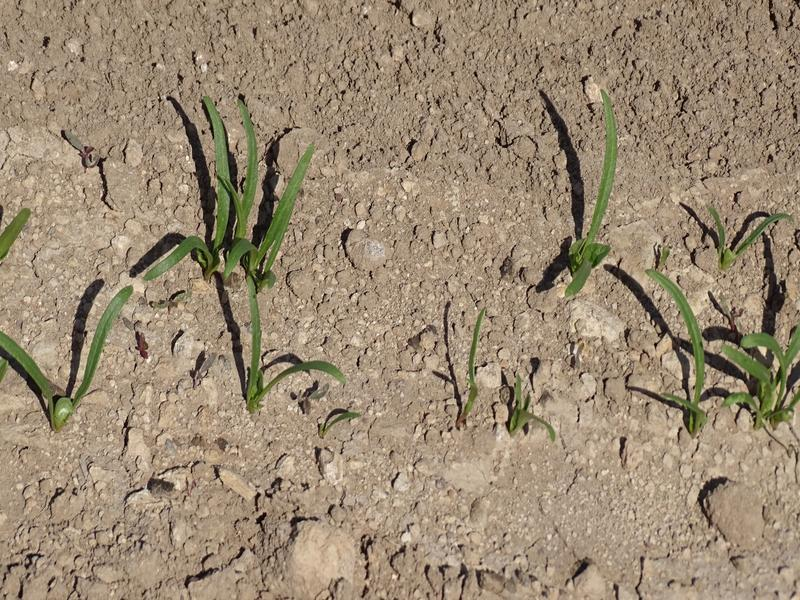Espinaca: (147, 98, 318, 280), (651, 273, 800, 425), (4, 285, 138, 428), (240, 288, 345, 410), (567, 97, 631, 289), (708, 204, 798, 267)
